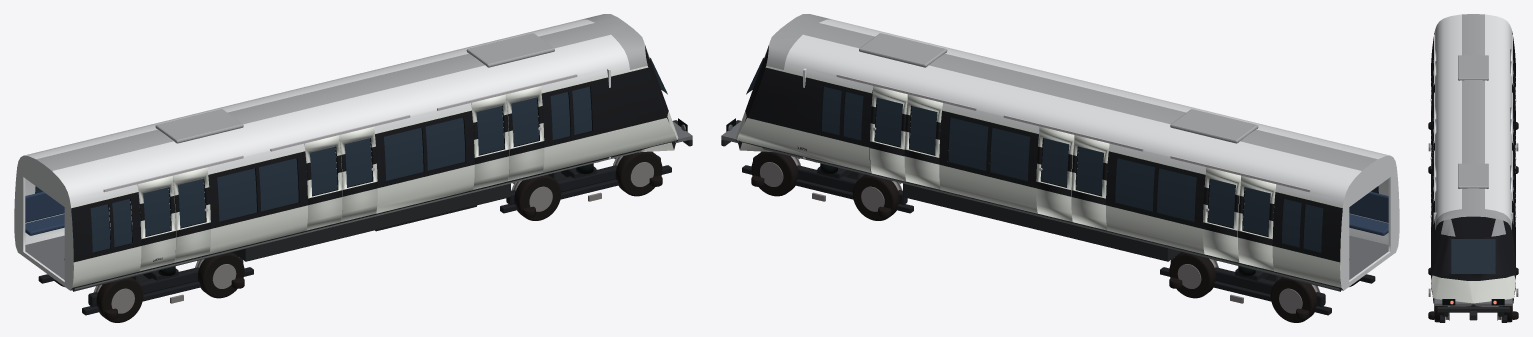
Rendered from mp89_cc__tail.glb.
3 views of the same model, side by side, from view 1: azimuth 30°, elevation 25°; view 2: azimuth 150°, elevation 25°; view 3: azimuth 270°, elevation 25° (orthographic). The views are drawn at different scales.
Parts seen in each view (by area): view 1: mp89_cc_tail; view 2: mp89_cc_tail; view 3: mp89_cc_tail.
Boxes of the visible parts, x1,y1,x2,y2 form: mp89_cc_tail: (14, 14, 692, 322); mp89_cc_tail: (721, 14, 1399, 322); mp89_cc_tail: (1428, 14, 1518, 322).
Size of the model in its own units: 15.05 by 3.47 by 2.6.
Materials: 9 (4 with a texture image).
